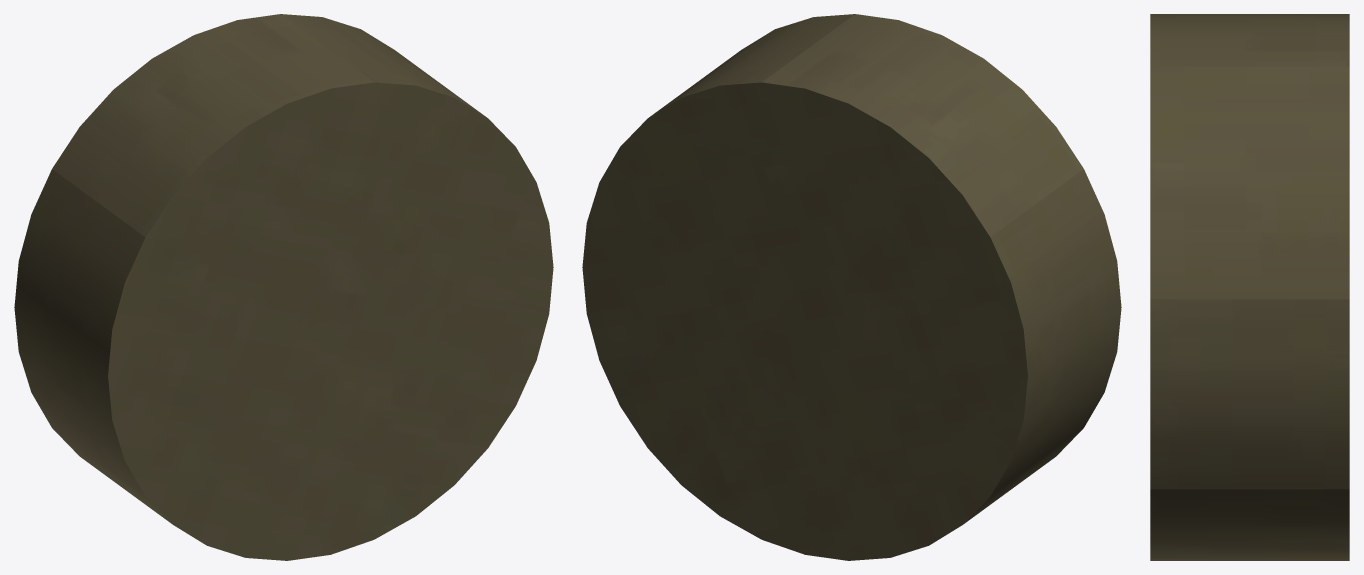
File: housing__foot_0.glb
3 views of the same model, side by side, from view 1: azimuth 30°, elevation 25°; view 2: azimuth 150°, elevation 25°; view 3: azimuth 270°, elevation 25° (orthographic). The views are drawn at different scales.
Visible parts, largest first — view 1: geometry_0; view 2: geometry_0; view 3: geometry_0.
Part boxes in pixels (x1=…): geometry_0: x1=14, y1=14, x2=553, y2=560; geometry_0: x1=582, y1=14, x2=1121, y2=560; geometry_0: x1=1150, y1=14, x2=1349, y2=560.
Bounding box in the file's own units: 0.022 × 0.022 × 0.008.
Materials: 1 (1 with a texture image).
